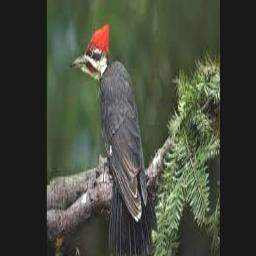Woodpecker: (71, 20, 156, 256)
